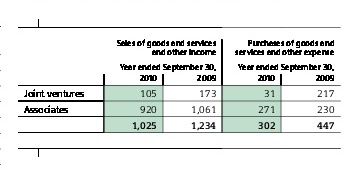table: (0, 0, 355, 170)
